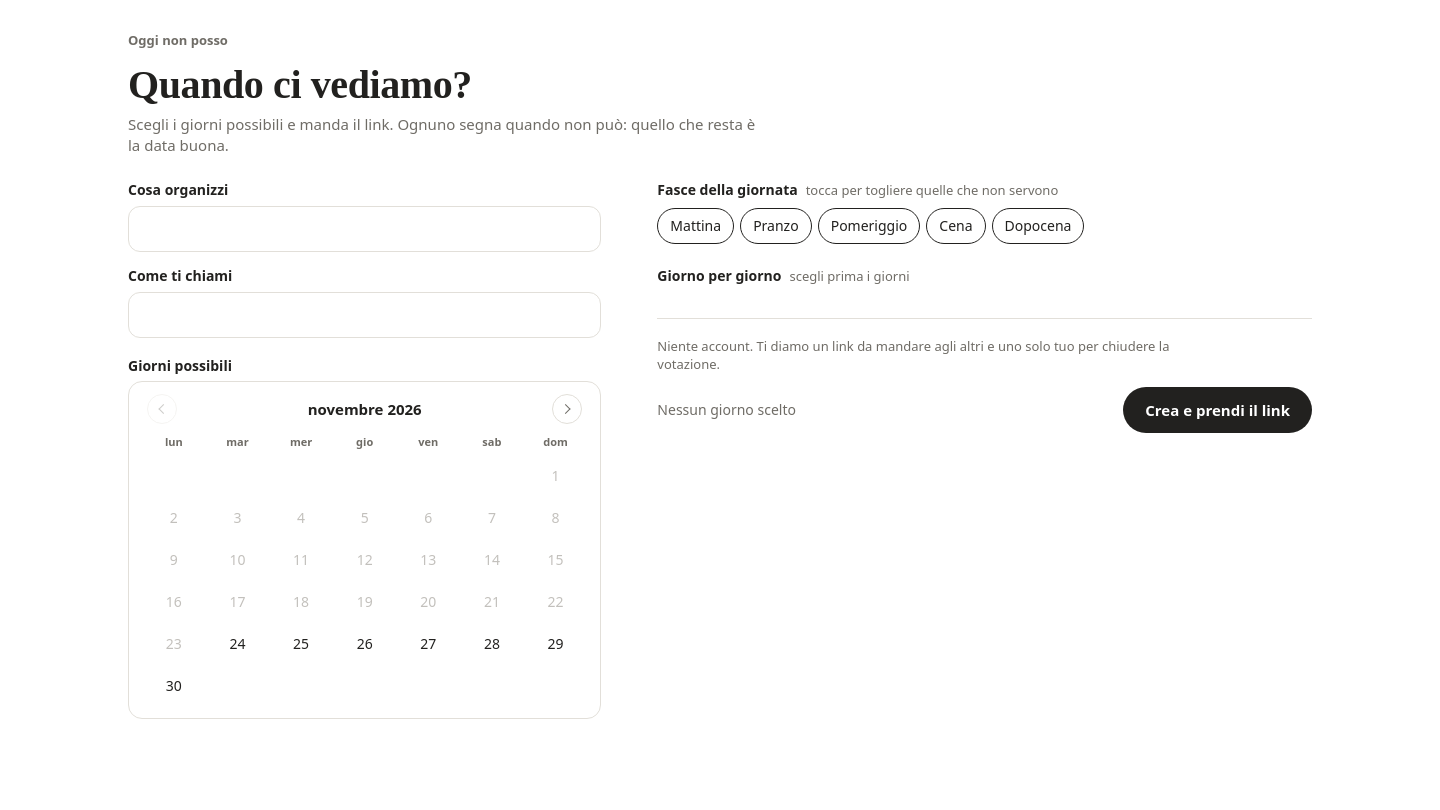
what can go wrong › says in Italian what the server answered: network
The width and height of the screenshot is (1440, 810).
In the field labelled "Cosa organizzi": (365, 229) [128,206,601,252], type "Rimpatriata di dicembre"
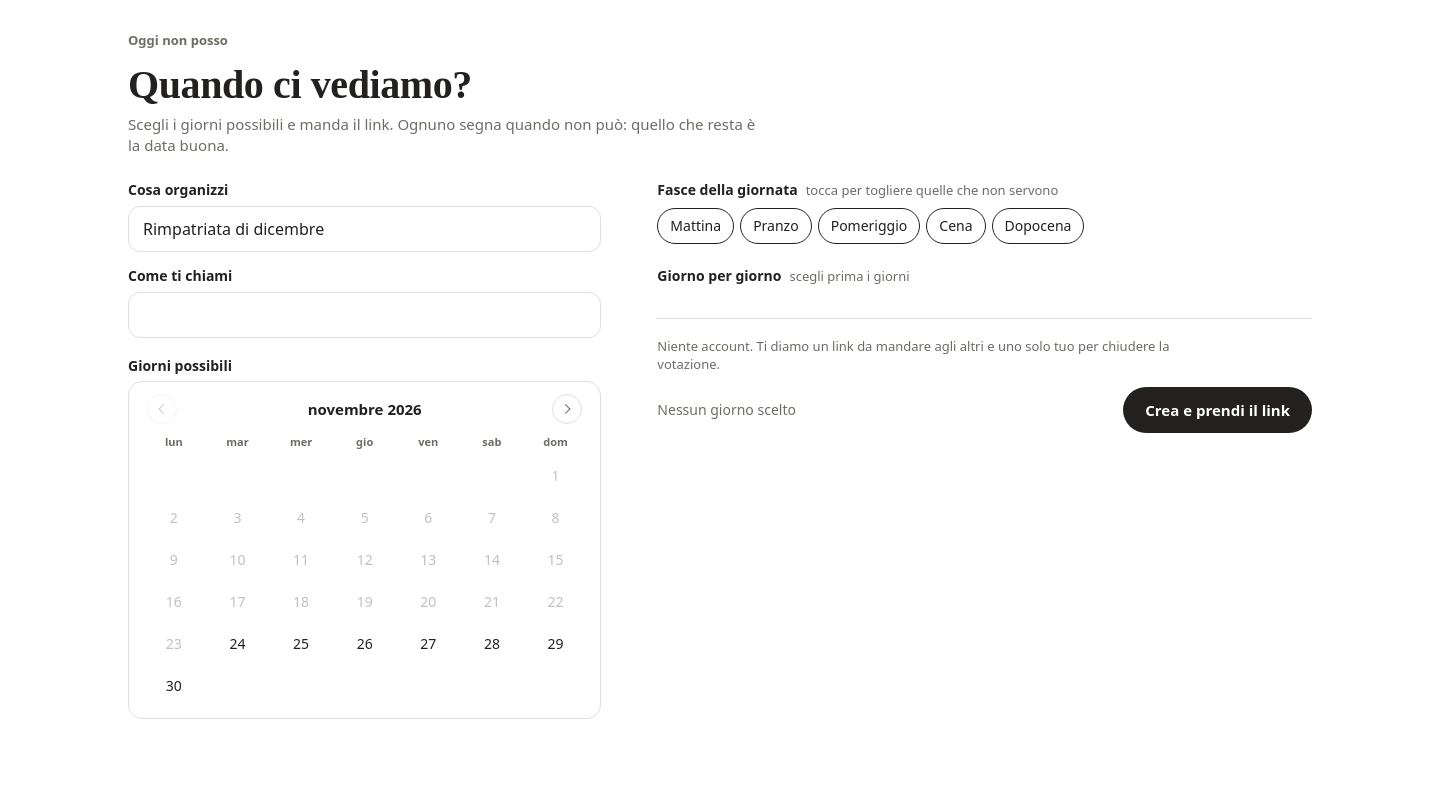
In the field labelled "Come ti chiami": (365, 315) [128,292,601,338], type "Giulia"
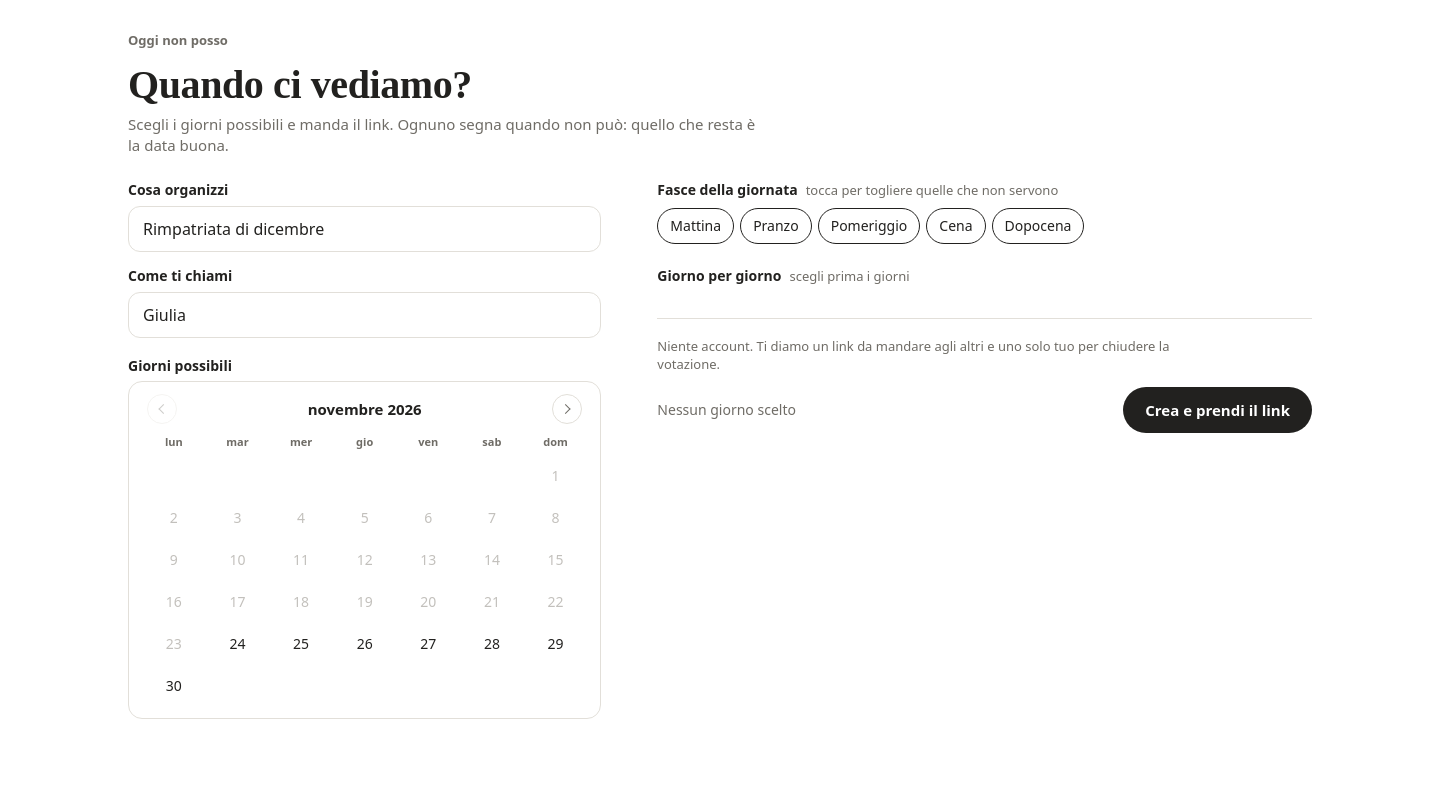
Click the button named "sabato 28 novembre 2026": (492, 644) [472,624,512,664]
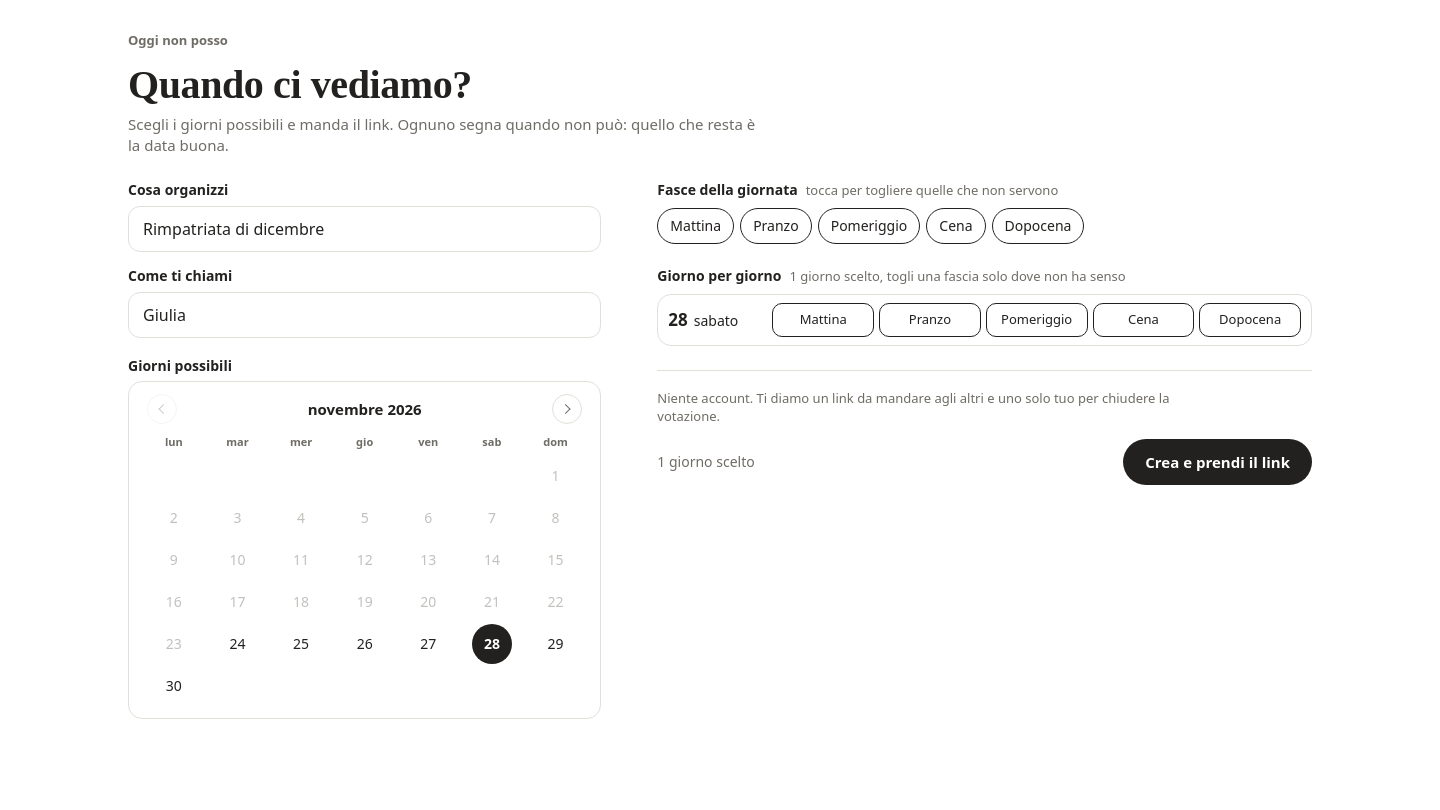
Click the button "Crea e prendi il link": (1218, 462) [1123,439,1312,485]
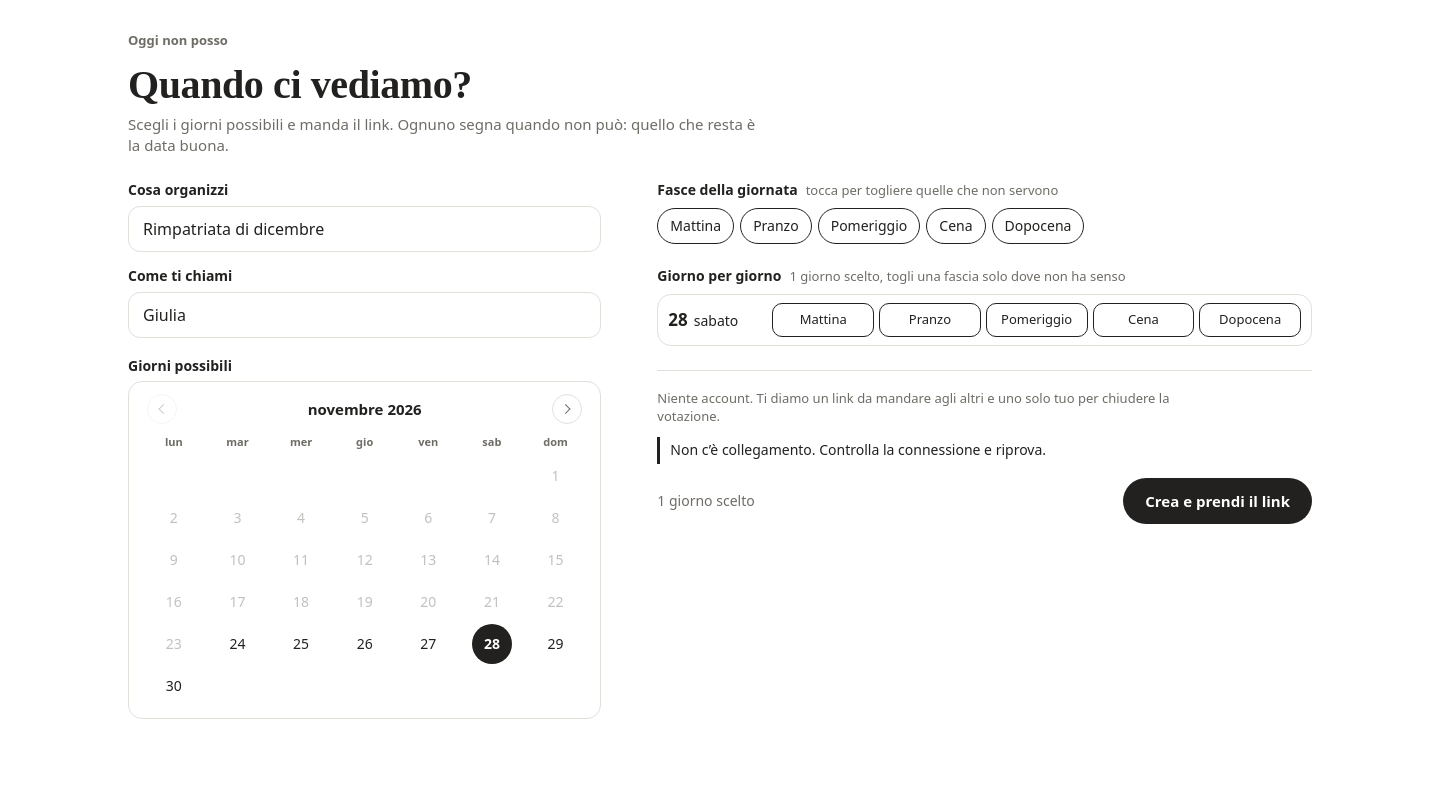
Expected: the button "Crea e prendi il link" is enabled, [1123,478,1312,524]
Expected: the text "Non c’è collegamento. Controlla la connessione e riprova." is shown, [657,437,1312,464]
